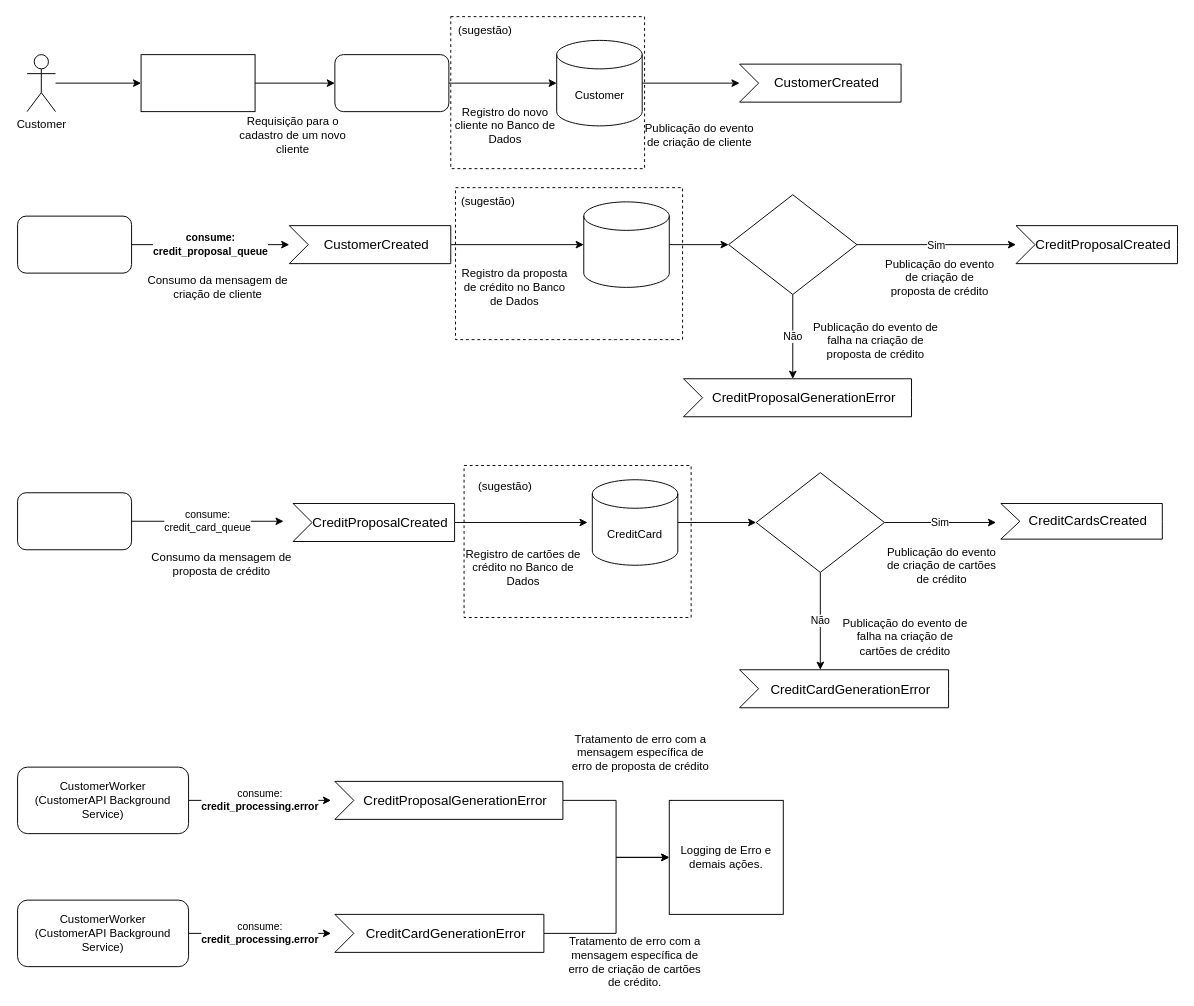
Image size: 1194x1006. Some labels were removed from this diagram. The shapes that lost their labels are listed below. From the top down, each one's box as (x1, y1, x2, y2) in pixels, then its label:
(140, 54, 255, 112): App
(334, 54, 449, 112): CustomerAPI
(17, 215, 132, 273): CreditProposalWorker
(583, 201, 669, 287): CreditProposal
(728, 194, 857, 294): Sucesso na criação de proposta de crédito?
(17, 492, 132, 550): CreditCardWorker
(755, 472, 884, 572): Sucesso na criação de cartões de crédito?
